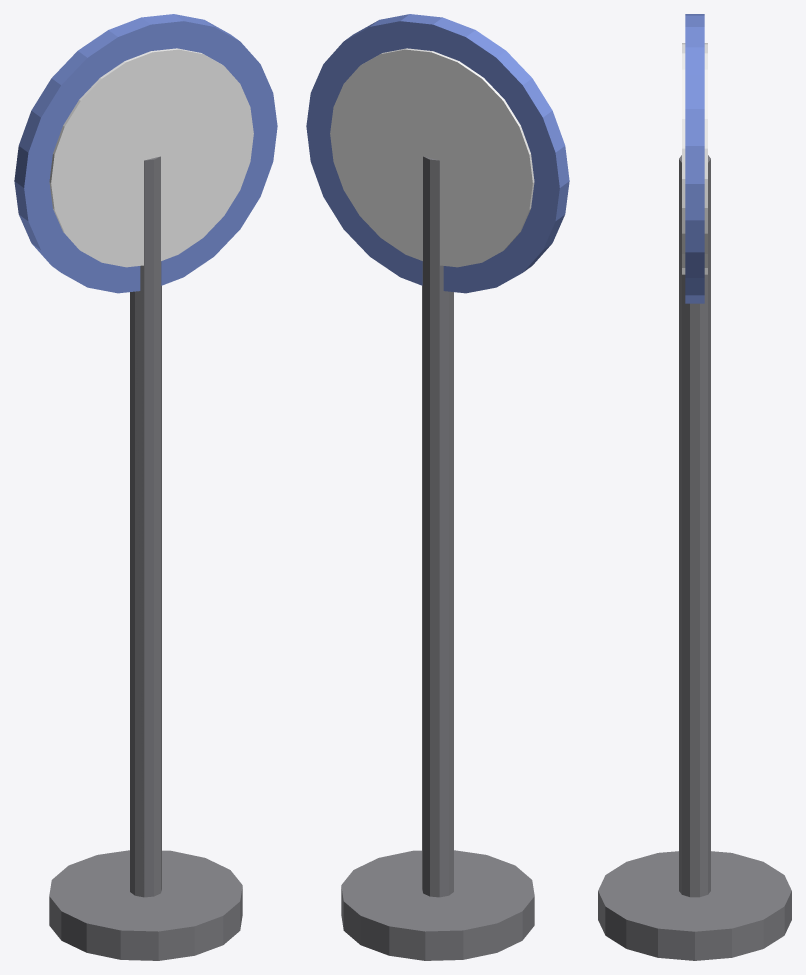
File: stop.glb
3 renders of one model, left to right at view 1: azimuth 30°, elevation 25°; view 2: azimuth 150°, elevation 25°; view 3: azimuth 270°, elevation 25°, orthographic.
Visible parts, largest first — view 1: stop; view 2: stop; view 3: stop.
Part boxes in pixels (x1,y1,x2,y2): stop: [14, 14, 277, 960]; stop: [306, 14, 569, 960]; stop: [598, 14, 791, 960].
Bounding box in the file's own units: 0.9 × 3.05 × 0.6.
